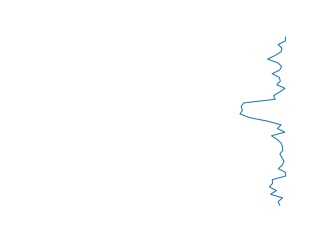interdistributaryEstuary: (235, 34, 291, 209)
